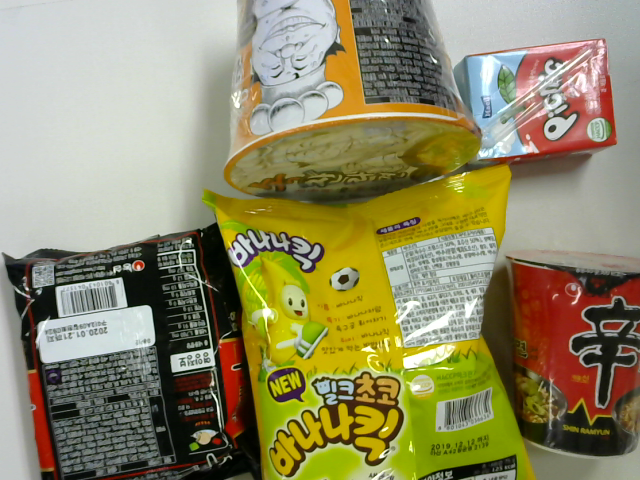Banana_Kick: (197, 176, 528, 480)
Hejangchan: (227, 2, 463, 186)
Picnic_Apple: (461, 38, 621, 180)
Sinramen_Black: (3, 224, 255, 480)
Sinramen_small: (511, 246, 640, 457)
